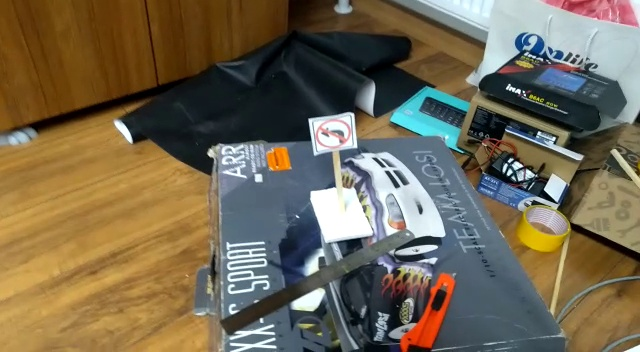sola_donulmez: (314, 115, 352, 152)
